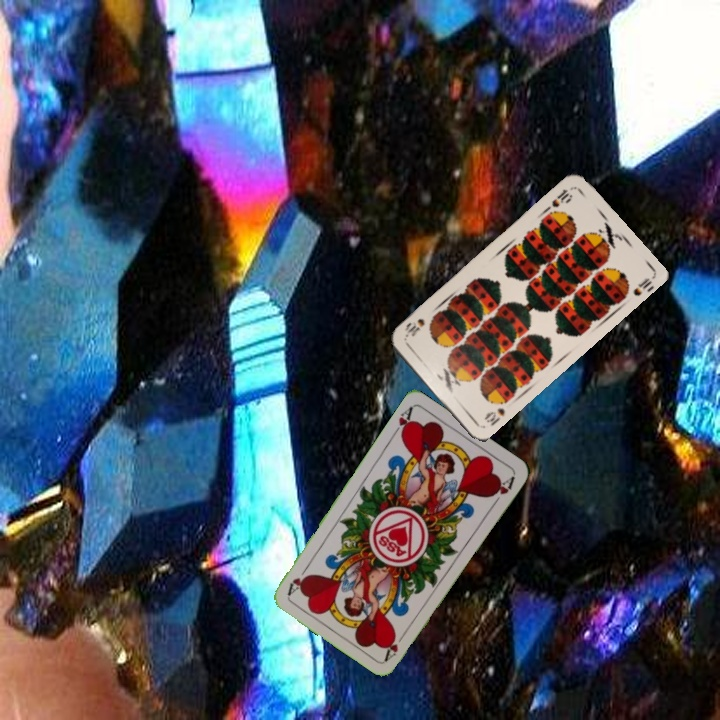HA: (381, 627, 410, 663), (388, 403, 415, 441)
S10: (548, 185, 574, 210), (480, 404, 507, 428)
